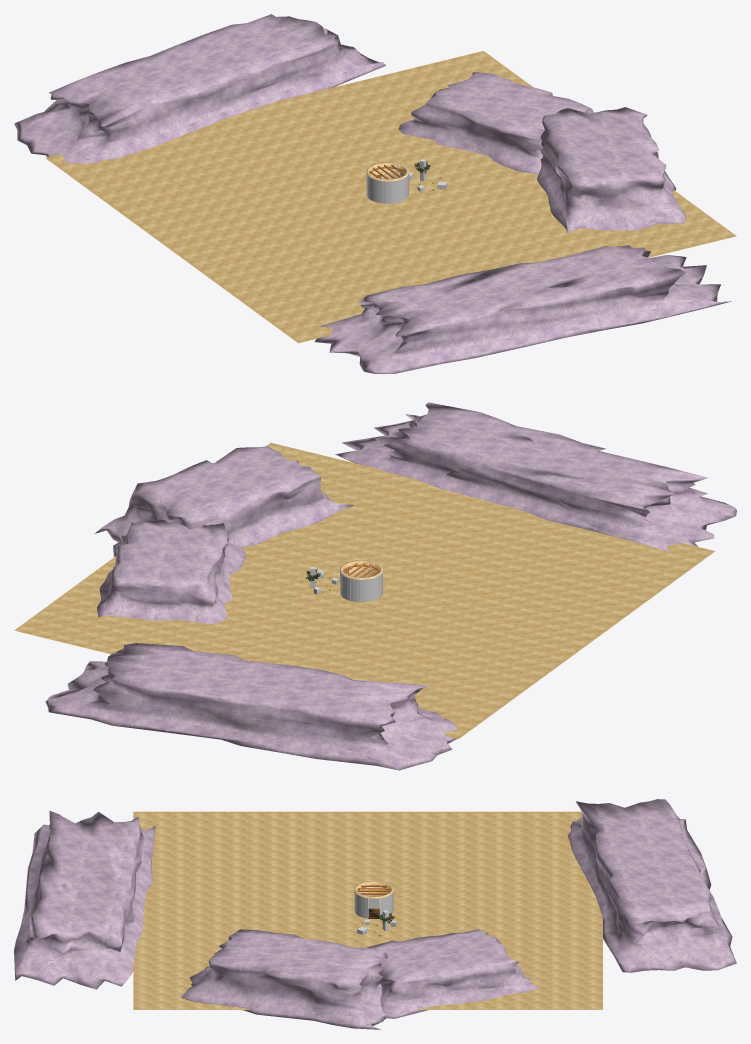
Rendered from cell-room.glb.
3 views of the same model, one above another, from view 1: azimuth 30°, elevation 25°; view 2: azimuth 150°, elevation 25°; view 3: azimuth 270°, elevation 25° (orthographic). The views are drawn at different scales.
Parts seen in each view (by area): view 1: distant_hills, ground; view 2: distant_hills, ground; view 3: ground, distant_hills.
Boxes of the visible parts, left/top/right/bottom form: distant_hills: left=14, top=14, right=731, bottom=373; ground: left=45, top=51, right=736, bottom=343; distant_hills: left=45, top=402, right=736, bottom=770; ground: left=14, top=442, right=715, bottom=738; ground: left=133, top=811, right=602, bottom=1009; distant_hills: left=14, top=799, right=736, bottom=1029.
Size of the model in its own units: 220 by 18.65 by 308.
Materials: 34 (27 with a texture image).
